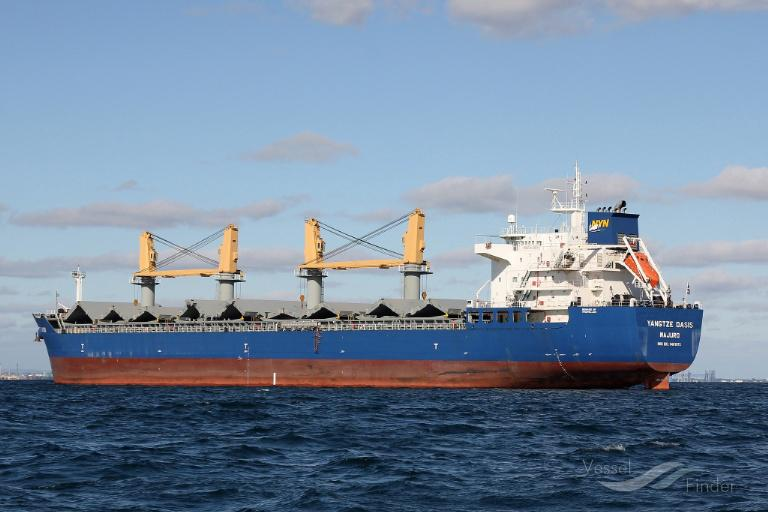OCR: (644, 314, 700, 358)
